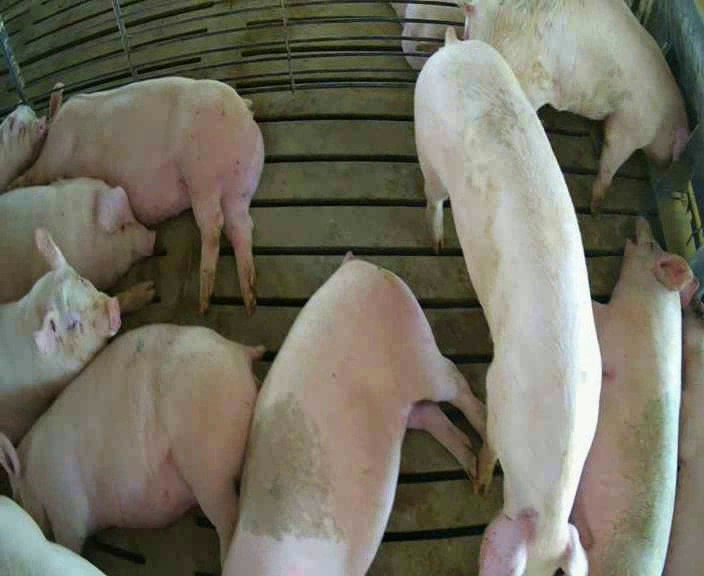pig: (415, 26, 601, 574), (224, 256, 482, 573), (16, 77, 263, 313), (467, 3, 687, 208), (573, 218, 698, 574), (0, 228, 120, 442), (0, 105, 46, 190)
